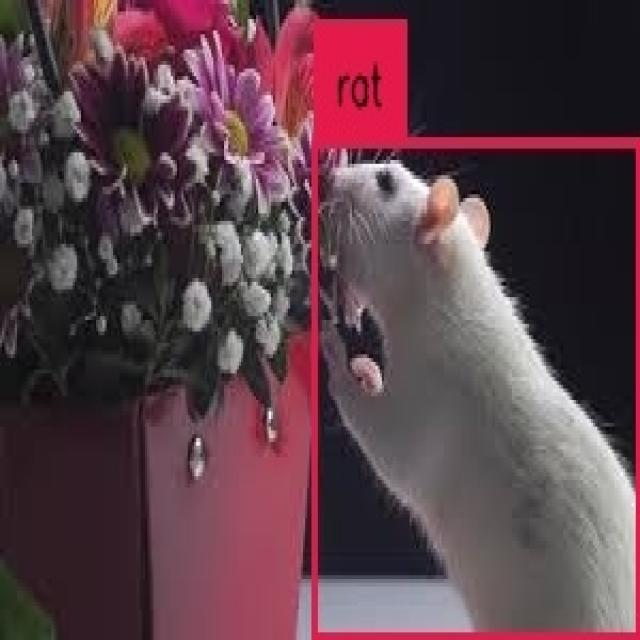rat: (315, 145, 639, 636)
